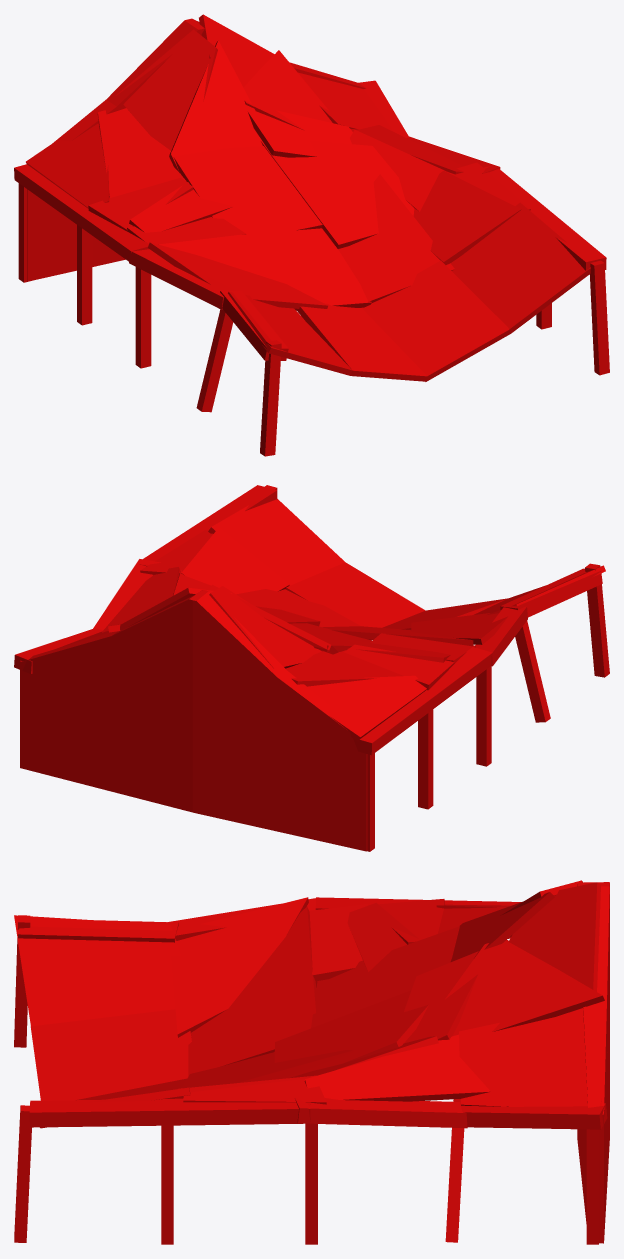
File: SM_Bld_Military_Tent_Damaged_02_Collision.fbx
3 views of the same model, one above another, from view 1: azimuth 30°, elevation 25°; view 2: azimuth 150°, elevation 25°; view 3: azimuth 270°, elevation 25° (orthographic). The views are drawn at different scales.
Visible parts, largest first — view 1: SM_Bld_Military_Tent_Damaged_02_Collision; view 2: SM_Bld_Military_Tent_Damaged_02_Collision; view 3: SM_Bld_Military_Tent_Damaged_02_Collision.
Boxes of the visible parts, x1,y1,x2,y2 form: SM_Bld_Military_Tent_Damaged_02_Collision: (14, 14, 609, 456); SM_Bld_Military_Tent_Damaged_02_Collision: (14, 485, 609, 851); SM_Bld_Military_Tent_Damaged_02_Collision: (14, 880, 609, 1244).
Size of the model in its own units: 643 by 376 by 760.
